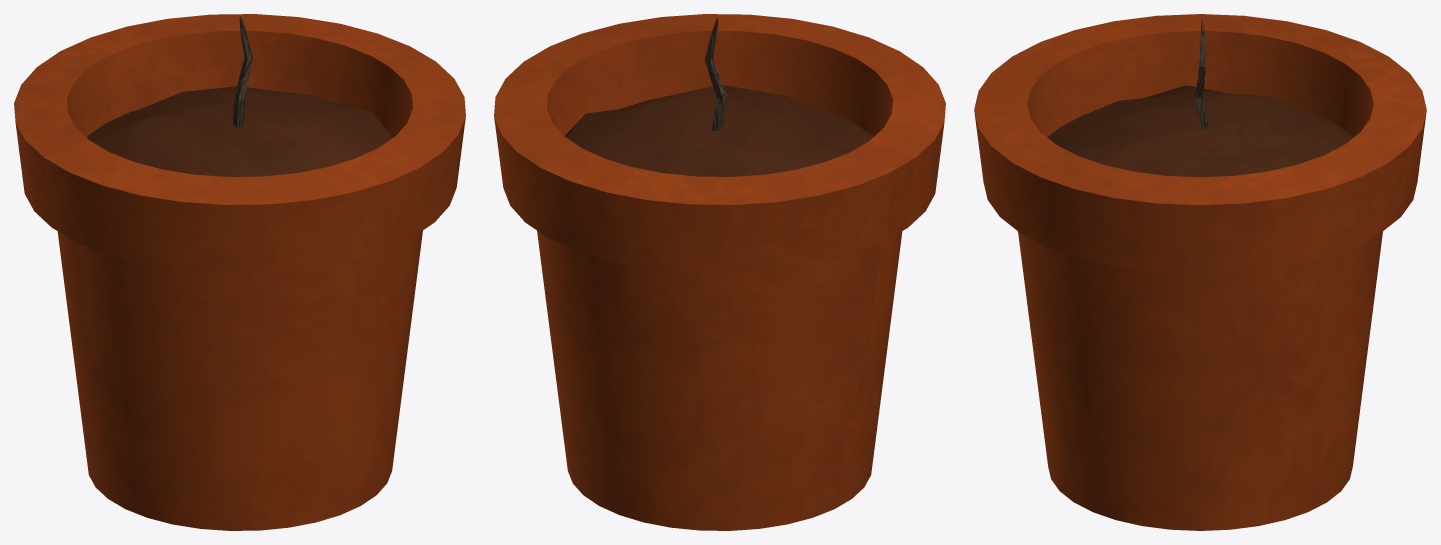
Rendered from PotHerbe.glb.
3 views of the same model, side by side, from view 1: azimuth 30°, elevation 25°; view 2: azimuth 150°, elevation 25°; view 3: azimuth 270°, elevation 25° (orthographic).
Visible parts, largest first — view 1: PotHerbes; view 2: PotHerbes; view 3: PotHerbes.
Boxes of the visible parts, x1,y1,x2,y2 form: PotHerbes: (14,14,465,530); PotHerbes: (494,14,945,530); PotHerbes: (974,14,1426,530).
Bounding box in the file's own units: 2.28 × 2.5 × 2.28.
1 material, 1 textured.
